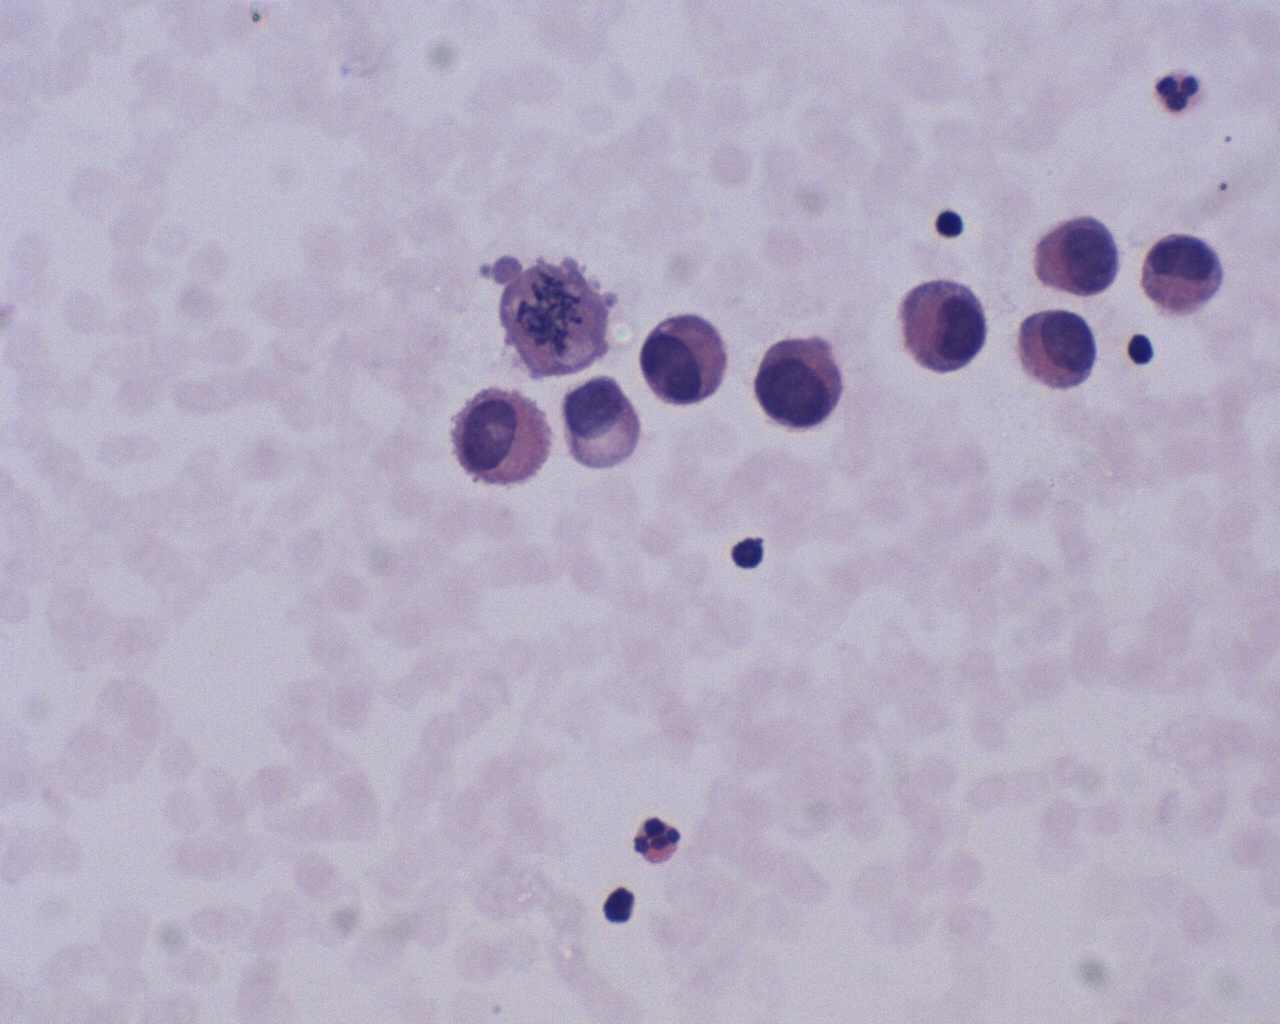ab: (489, 259, 629, 380), (446, 385, 568, 501), (627, 296, 747, 405), (750, 328, 853, 439), (889, 271, 993, 376), (1026, 212, 1132, 298), (1011, 299, 1106, 395), (561, 372, 646, 478)
lymph: (929, 204, 976, 243), (726, 530, 770, 572), (1124, 323, 1158, 370)
neutro: (631, 810, 693, 872), (1149, 67, 1204, 124)
